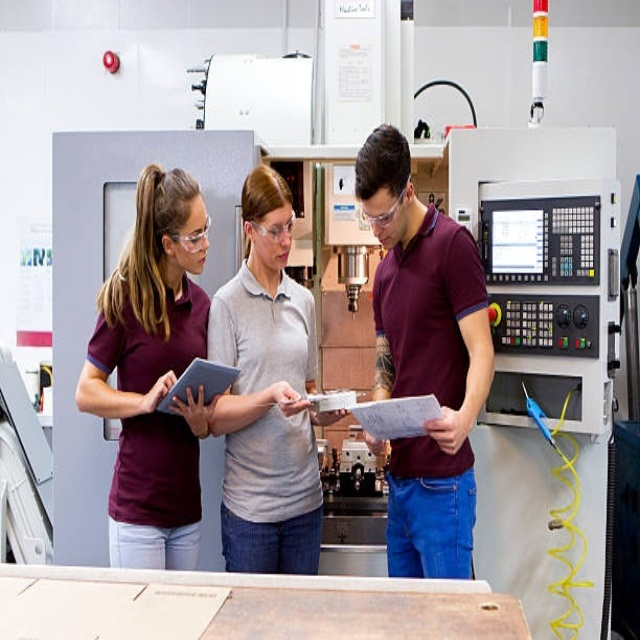Gafas: (361, 186, 407, 228), (165, 216, 211, 253), (250, 212, 295, 242)
Sin_guantes: (169, 384, 221, 438), (425, 400, 466, 458), (142, 367, 177, 414), (265, 380, 307, 412), (355, 423, 390, 461)
Sin_mascara: (188, 248, 210, 275), (270, 242, 292, 268), (372, 229, 396, 251)
